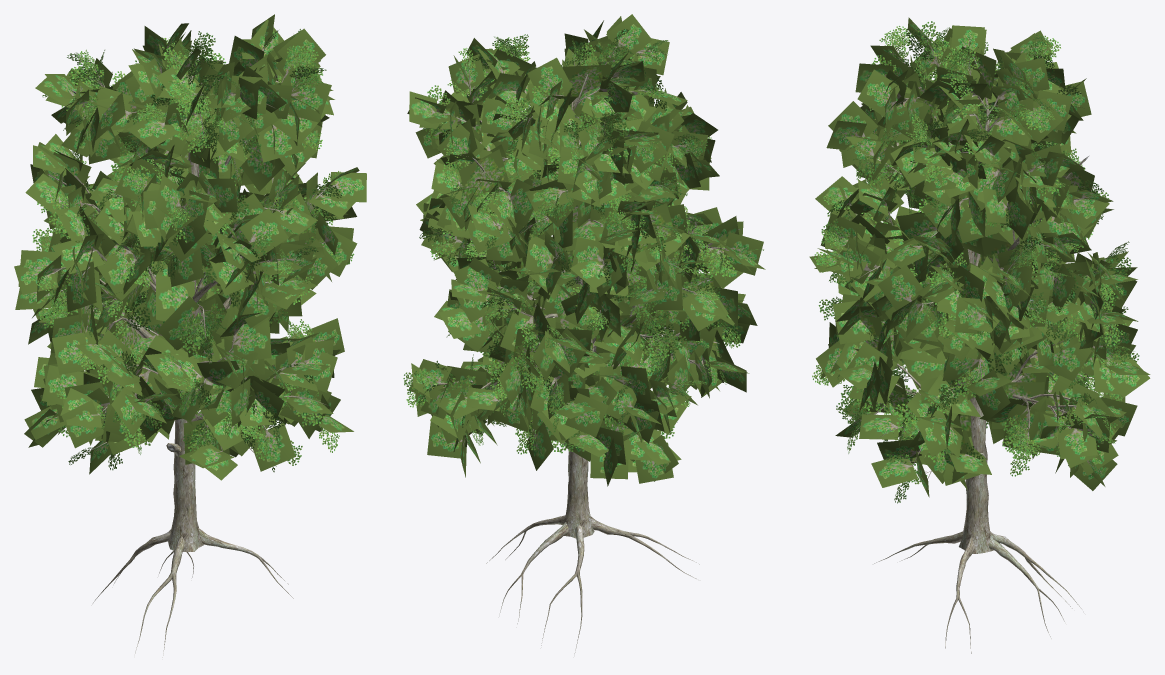
Rendered from Red_Maple_Young.fbx.
The picture shows the model from 3 angles, left to right: view 1: azimuth 30°, elevation 25°; view 2: azimuth 150°, elevation 25°; view 3: azimuth 270°, elevation 25°; orthographic projection. The views are drawn at different scales.
Parts seen in each view (by area): view 1: Red_Maple_Hero_Young_2; view 2: Red_Maple_Hero_Young_2; view 3: Red_Maple_Hero_Young_2.
Boxes of the visible parts, box(x1,y1,x2,y2) form: Red_Maple_Hero_Young_2: box(14, 14, 366, 657); Red_Maple_Hero_Young_2: box(403, 14, 765, 653); Red_Maple_Hero_Young_2: box(809, 17, 1150, 653).
Size of the model in its own units: 1.91 by 3.21 by 1.66.
5 materials, 5 textured.
